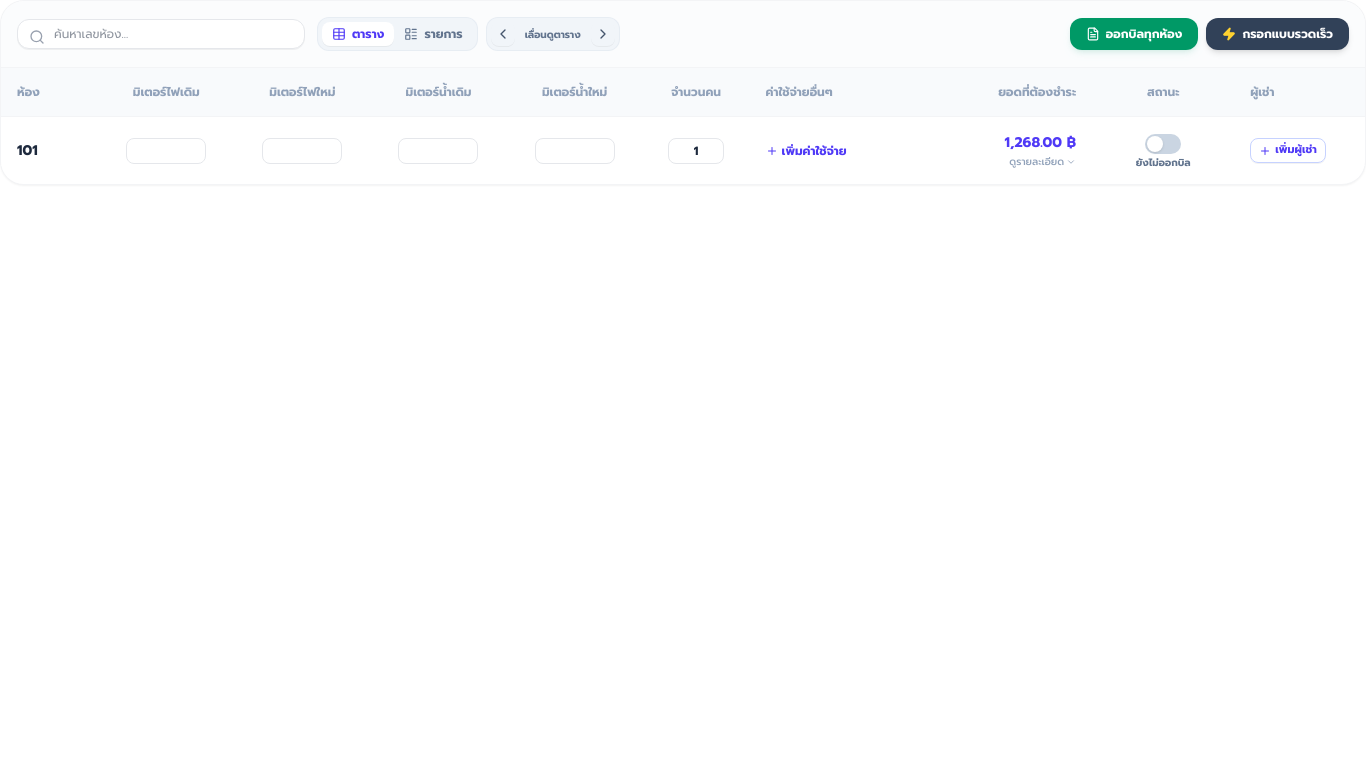
Test: HORPLUS LOCAL-07 — PO UAT Targeted Correction Suite › PART G: Canonical Rent Obligation Authority Tests (RENT-A1–RENT-A7) › RENT-A7 & ROOM101: Room 101 August 2026 UAT regression - Table/List parity without fabricated rent
Expected: the text "101" is shown, left=1, top=116, right=98, bottom=184
Expected: the text "1,268.00 ฿" is shown, left=1005, top=133, right=1076, bottom=153
// Open detail in Table: Only MU is shown, NO Rent
Click the button "ดูรายละเอียด" at [1043, 162], box left=1009, top=155, right=1076, bottom=168
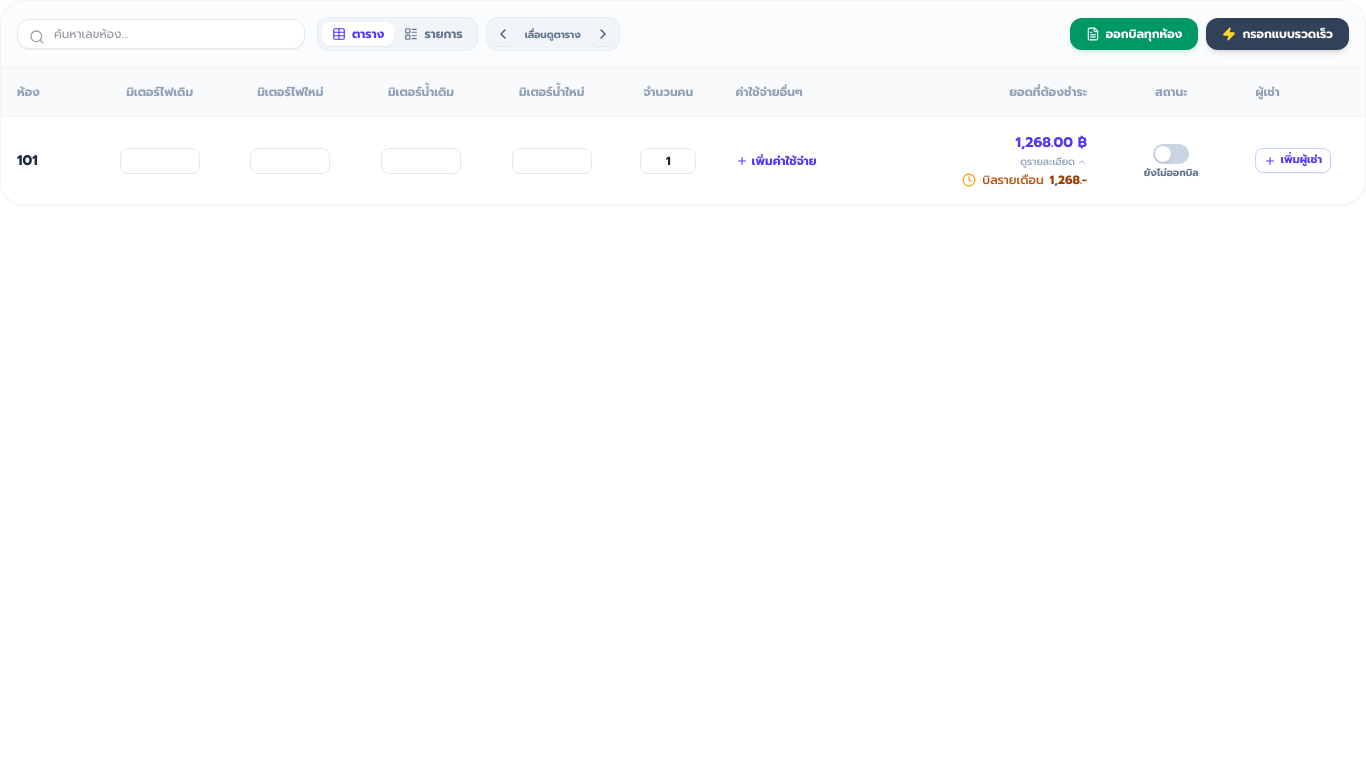
Result: the text "บิลรายเดือน" is shown at left=982, top=172, right=1044, bottom=188
Result: the text "1,268.-" is shown at left=1050, top=172, right=1087, bottom=188
// Switch to List View
Click the button with test id "view-mode-list-button" at [434, 34], box left=394, top=22, right=473, bottom=46
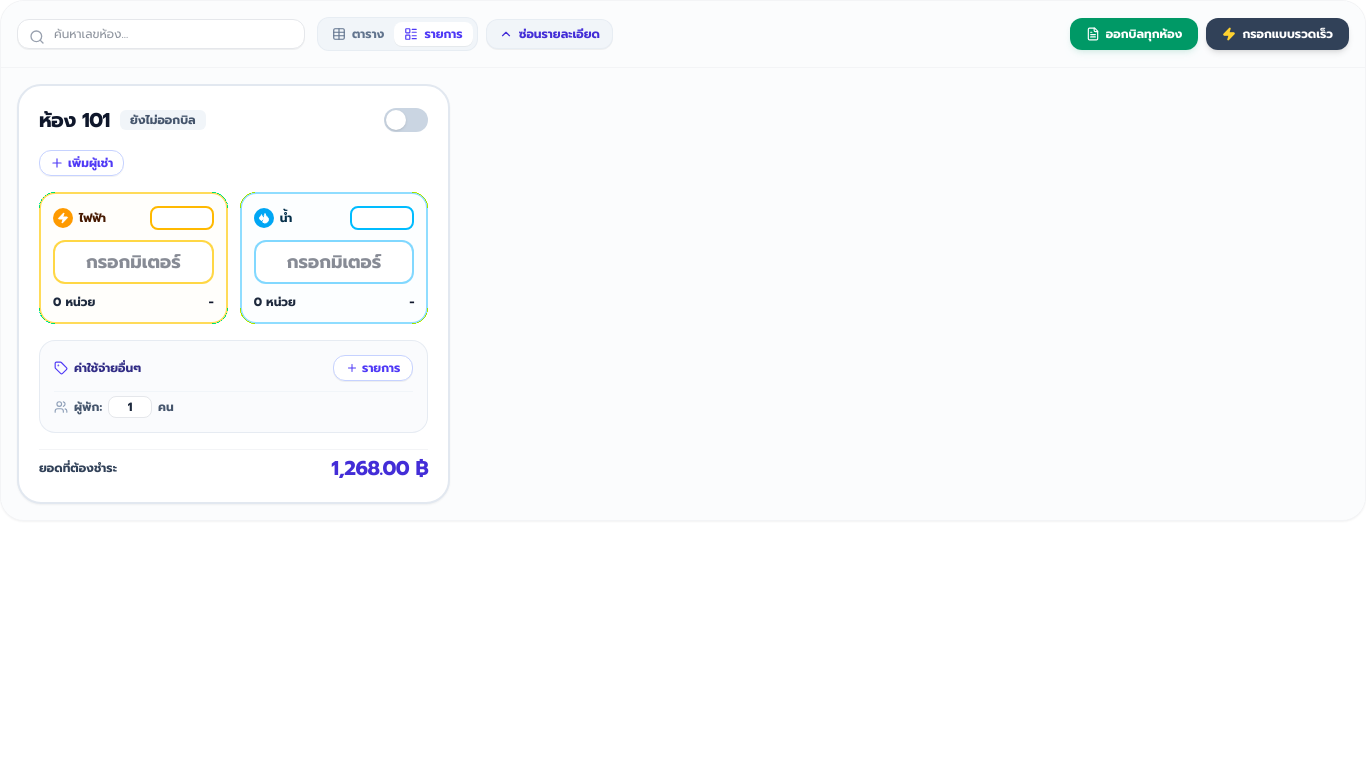
Expected: the text "1,268.00 ฿" is shown, left=331, top=454, right=428, bottom=482
Result: the element with test id "meter-list-card-room-101" is shown at left=17, top=84, right=450, bottom=504
